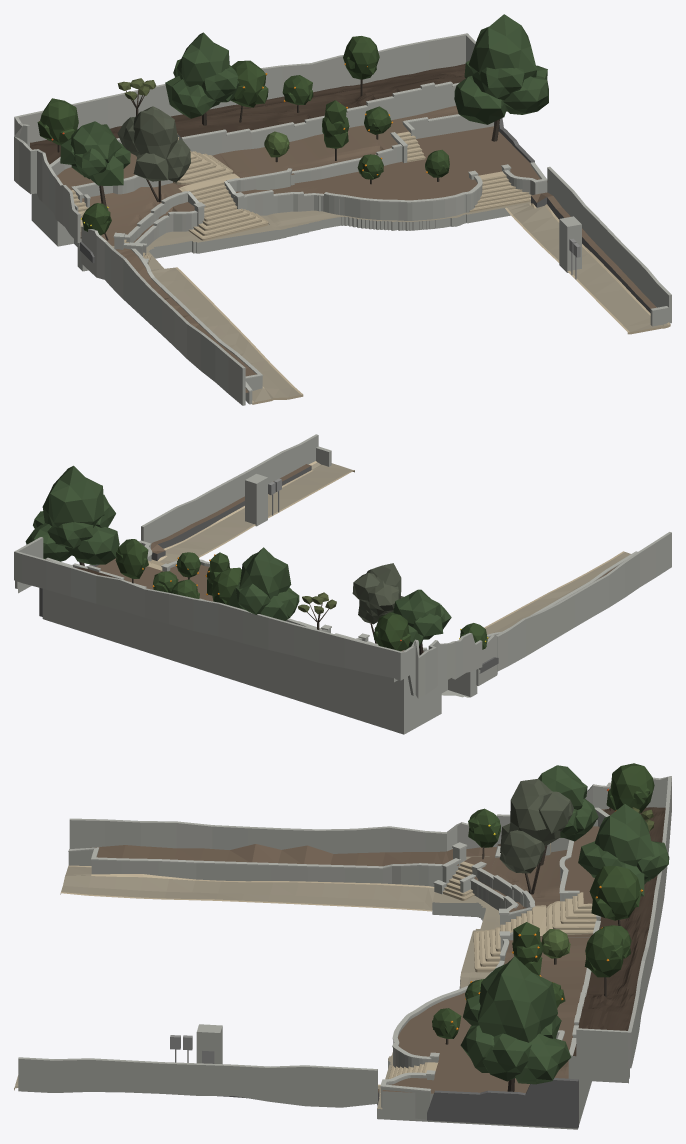
The model's file is reconstruction-351a4b00f234.glb.
3 views of the same model, one above another, from view 1: azimuth 30°, elevation 25°; view 2: azimuth 150°, elevation 25°; view 3: azimuth 270°, elevation 25° (orthographic). The views are drawn at different scales.
Visible parts, largest first — view 1: ground-terraces, wall-rear-boundary, planting-tree-14, wall-west-side-boundary, ground-side-west, wall-wa, ground-side-east, planting-tree-03, wall-we, planting-tree-01, wall-east-side-boundary, wall-wb (+24 smaller); view 2: ground-terraces, wall-rear-boundary, wall-west-side-boundary, planting-tree-14, wall-east-side-boundary, ground-side-east, wall-west-boundary-rear, planting-tree-03, planting-tree-01, planting-tree-02, ground-side-west, planter-fill-east-side (+7 smaller); view 3: ground-terraces, ground-side-west, wall-east-side-boundary, planting-tree-14, wall-west-side-boundary, wall-west-side-retaining, slot-filler-east, planting-tree-01, planting-tree-03, wall-rear-boundary, wall-rear-boundary-return-east, planting-tree-04 (+19 smaller).
Part boxes in pixels (box(x1,y1,x2,y2)): ground-terraces: box(30, 64, 547, 271); wall-rear-boundary: box(20, 33, 468, 142); planting-tree-14: box(454, 14, 548, 141); wall-west-side-boundary: box(81, 226, 245, 405); ground-side-west: box(115, 248, 303, 404); wall-wa: box(140, 165, 546, 247); ground-side-east: box(505, 203, 670, 334); planting-tree-03: box(165, 32, 239, 125); wall-we: box(183, 84, 455, 155); planting-tree-01: box(117, 106, 190, 202); wall-east-side-boundary: box(547, 166, 671, 326); wall-wb: box(130, 116, 493, 242); ground-terraces: box(18, 558, 480, 734); wall-rear-boundary: box(14, 550, 396, 678); wall-west-side-boundary: box(476, 532, 671, 685); planting-tree-14: box(25, 465, 119, 565); wall-east-side-boundary: box(141, 434, 331, 543); ground-side-east: box(157, 461, 354, 563); wall-west-boundary-rear: box(395, 633, 482, 698); planting-tree-03: box(228, 547, 299, 620); planting-tree-01: box(352, 563, 403, 643); planting-tree-02: box(391, 589, 451, 655); ground-side-west: box(484, 551, 630, 639); planter-fill-east-side: box(151, 464, 311, 560); ground-terraces: box(377, 807, 665, 1129); ground-side-west: box(60, 844, 496, 911); wall-east-side-boundary: box(18, 1057, 377, 1107); planting-tree-14: box(460, 956, 571, 1091); wall-west-side-boundary: box(69, 818, 497, 857); wall-west-side-retaining: box(68, 850, 442, 886); slot-filler-east: box(427, 1078, 578, 1128); planting-tree-01: box(499, 778, 573, 894); planting-tree-03: box(578, 804, 669, 896); wall-rear-boundary: box(627, 779, 671, 1068); wall-rear-boundary-return-east: box(576, 1028, 629, 1078); planting-tree-04: box(589, 866, 642, 925).
Bounding box in the file's own units: 35.47 × 10.66 × 35.17.
